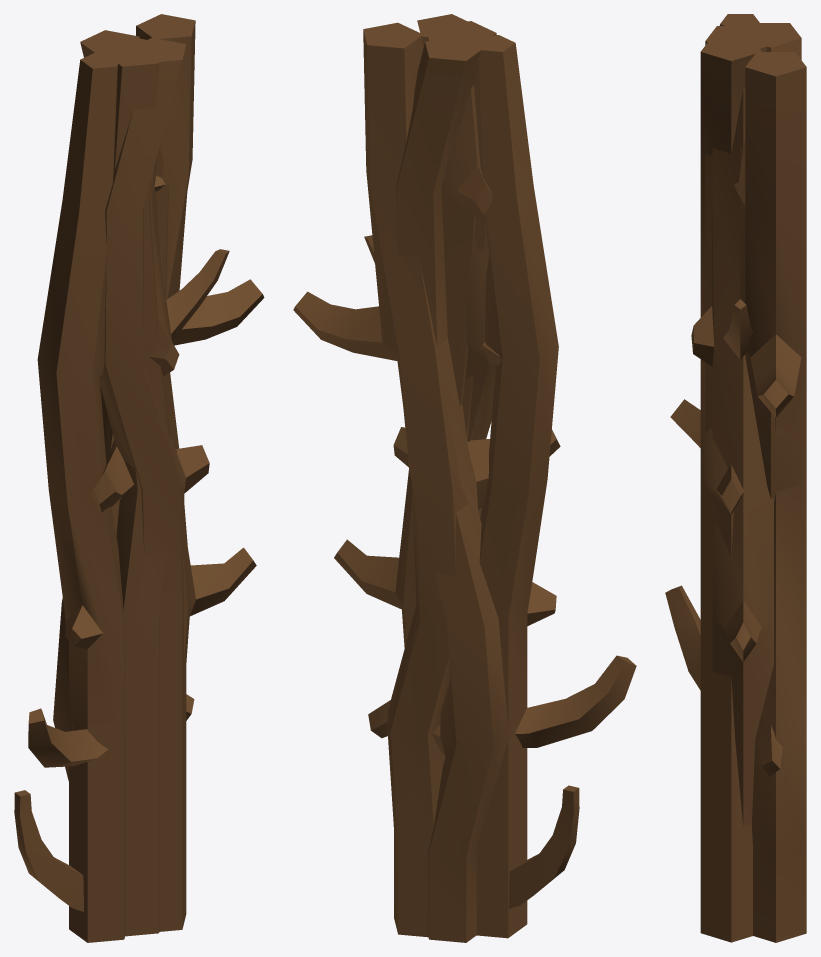
File: aeste.glb
The picture shows the model from 3 angles, left to right: view 1: azimuth 30°, elevation 25°; view 2: azimuth 150°, elevation 25°; view 3: azimuth 270°, elevation 25°; orthographic projection.
Visible parts, largest first — view 1: ast_3, ast_1, ast_4, ast_2, ast_0, ast_5; view 2: ast_2, ast_3, ast_5, ast_0, ast_1, ast_4; view 3: ast_2, ast_0, ast_1, ast_5, ast_4, ast_3.
Part boxes in pixels (x1,y1,x2,y2): ast_3: (37,51,229,942); ast_1: (100,37,209,931); ast_4: (104,41,169,936); ast_2: (28,14,264,767); ast_0: (14,37,256,911); ast_5: (53,30,194,781); ast_2: (293,22,636,937); ast_3: (364,35,558,938); ast_5: (368,36,560,942); ast_0: (334,22,579,908); ast_1: (393,14,501,467); ast_4: (439,21,496,518); ast_2: (665,52,806,942); ast_0: (691,29,773,826); ast_1: (700,36,761,942); ast_5: (670,23,801,776); ast_4: (705,26,765,434); ast_3: (719,14,760,359).
Size of the model in its own units: 0.3457 by 1 by 0.1456.
